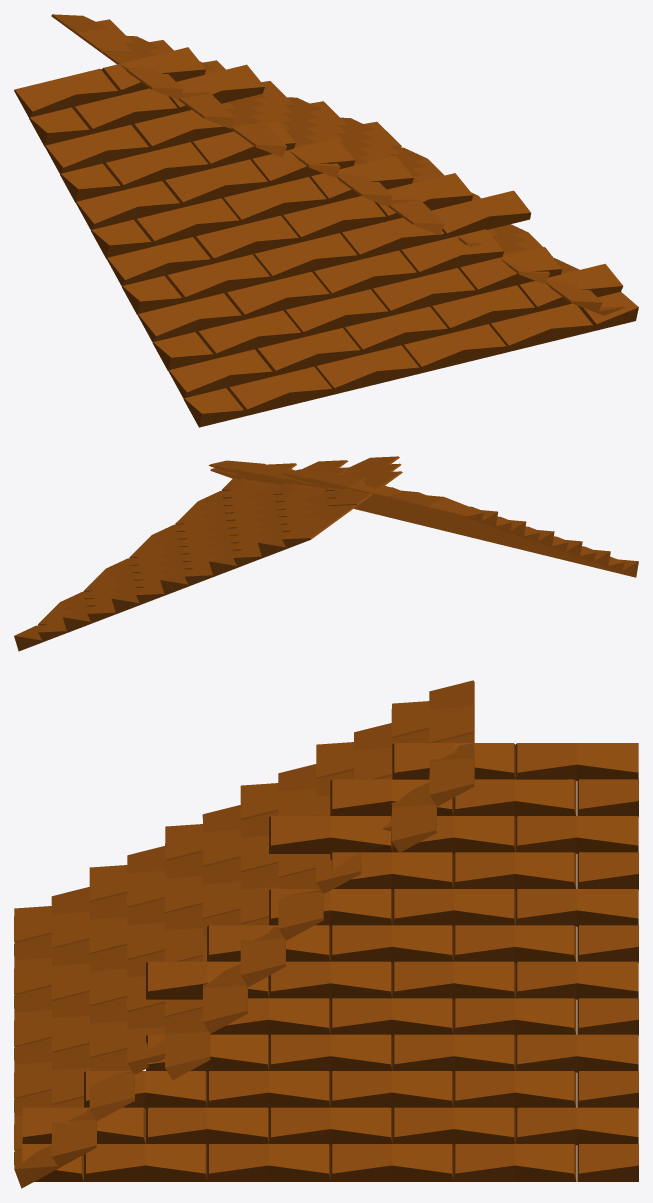
The model's file is Roof_corner.fbx.
The picture shows the model from 3 angles, top to bottom: view 1: azimuth 30°, elevation 25°; view 2: azimuth 150°, elevation 25°; view 3: azimuth 270°, elevation 25°; orthographic projection. The views are drawn at different scales.
Parts seen in each view (by area): view 1: Plane.017; view 2: Plane.017; view 3: Plane.017.
Part boxes in pixels (box(x1,y1,x2,y2)): Plane.017: box(14, 14, 638, 427); Plane.017: box(14, 456, 638, 651); Plane.017: box(14, 680, 638, 1188).
Size of the model in its own units: 200 by 88.63 by 203.
